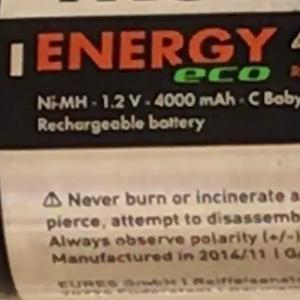NIMH: (29, 87, 84, 119)
